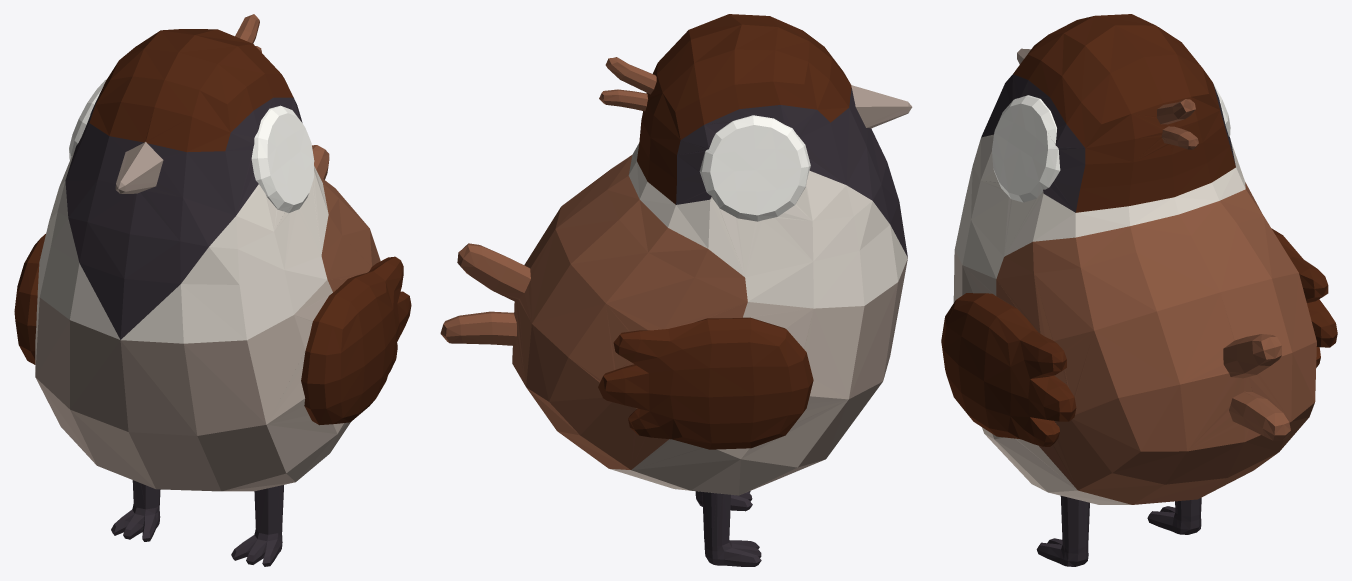
The model's file is swbird.glb.
3 views of the same model, side by side, from view 1: azimuth 30°, elevation 25°; view 2: azimuth 150°, elevation 25°; view 3: azimuth 270°, elevation 25° (orthographic).
Parts seen in each view (by area): view 1: Mesh_0; view 2: Mesh_0; view 3: Mesh_0.
Boxes of the visible parts, left/top/right/bottom form: Mesh_0: left=14, top=14, right=411, bottom=566; Mesh_0: left=440, top=14, right=912, bottom=566; Mesh_0: left=941, top=14, right=1337, bottom=566.
Size of the model in its own units: 0.4976 by 0.6727 by 0.472.
1 material, 1 textured.
